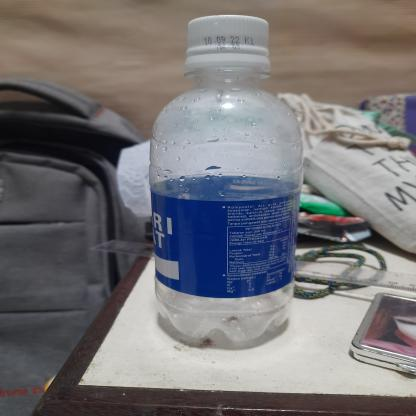bottle: (145, 12, 306, 350)
